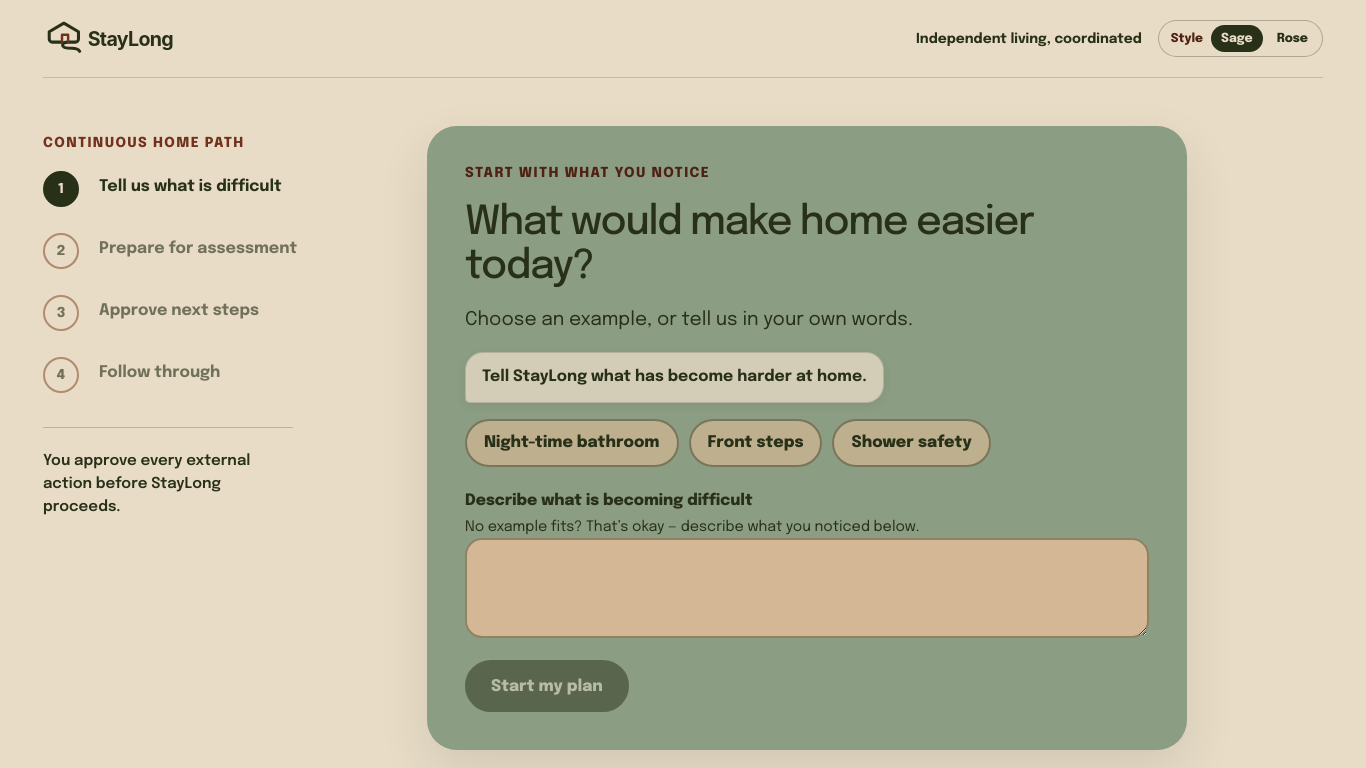
Test case: StayLong Continuous Home Path › offers low-effort choices when home or support details are uncertain
Type "Getting to the bathroom at night is difficult." into the text box labelled "Describe what is becoming difficult". click: (807, 588)
box: [465, 538, 1149, 638]
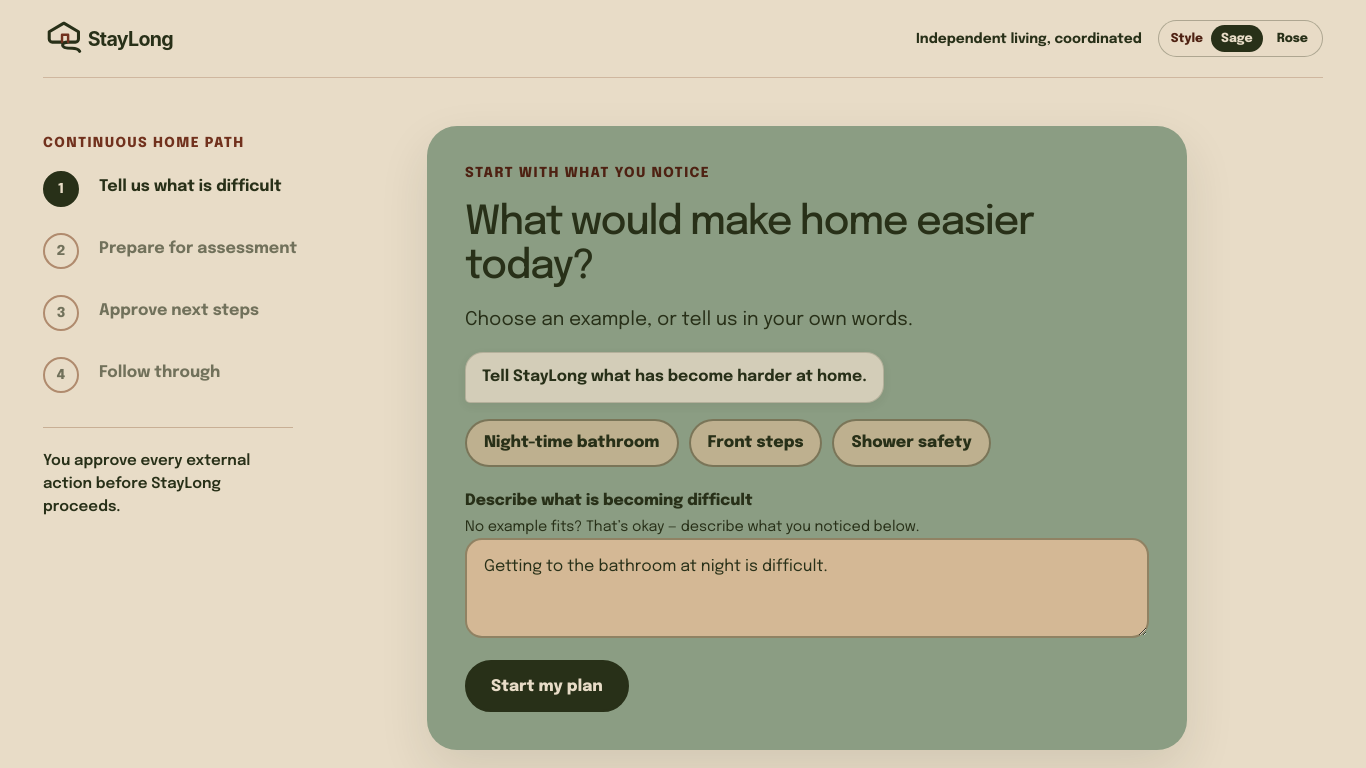
Click the button "Start my plan". click: (547, 686)
box: [465, 660, 629, 712]
(page scrolled)
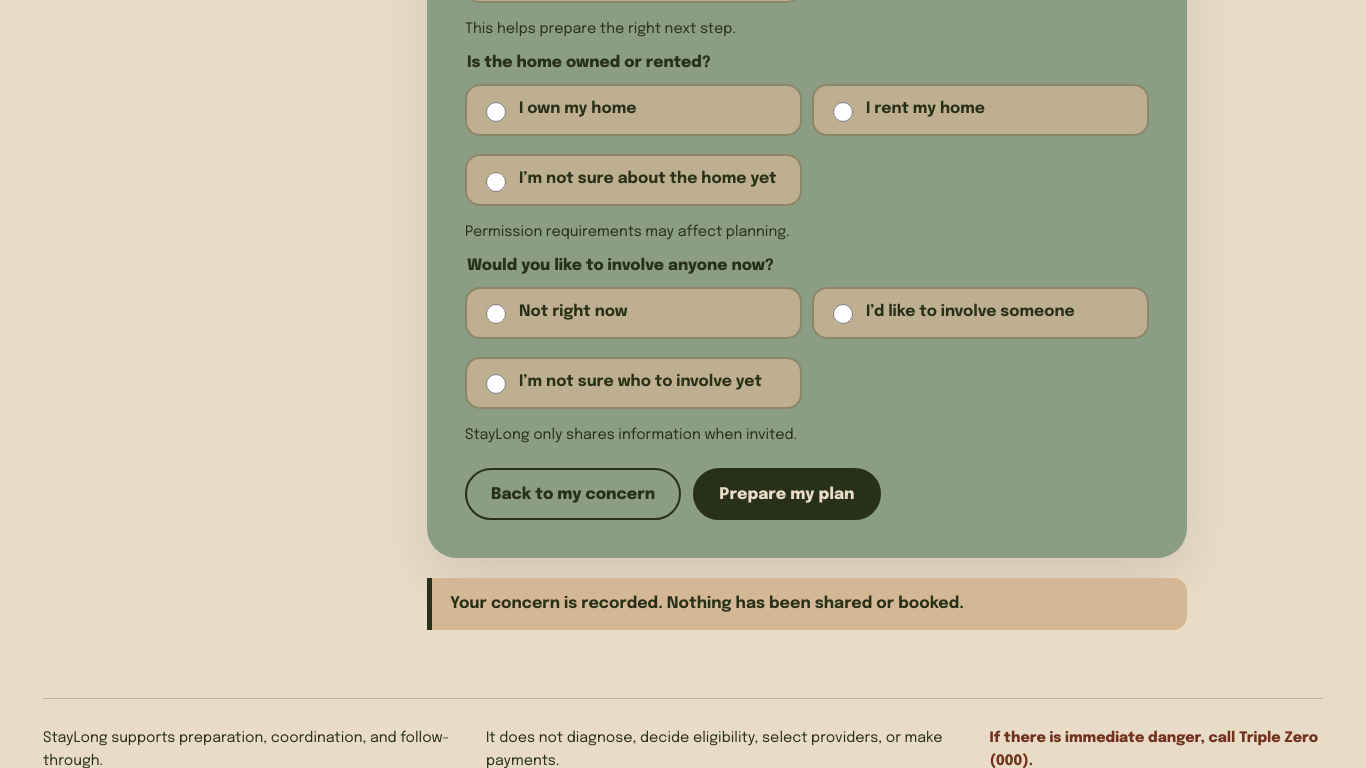
Now the radio button labelled "I’m not sure about the home yet" is shown, box [486, 172, 506, 192]
Now the radio button labelled "Not right now" is shown, box [486, 304, 506, 324]
Now the radio button labelled "I’m not sure who to involve yet" is shown, box [486, 374, 506, 394]
